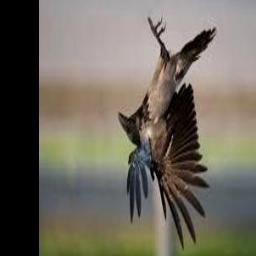Crow: (119, 18, 218, 251)
